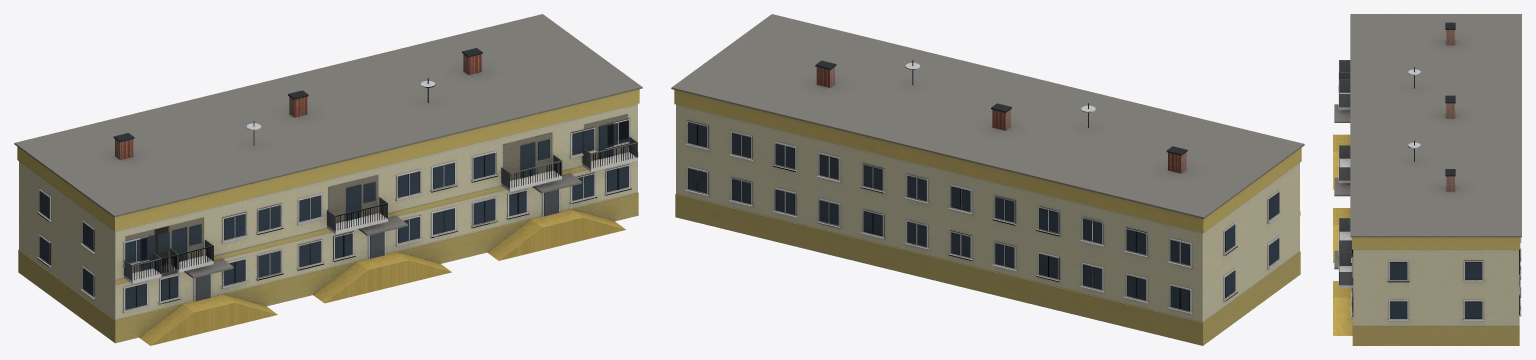
The model's file is blok.glb.
The picture shows the model from 3 angles, left to right: view 1: azimuth 30°, elevation 25°; view 2: azimuth 150°, elevation 25°; view 3: azimuth 270°, elevation 25°; orthographic projection. The views are drawn at different scales.
Parts seen in each view (by area): view 1: blok; view 2: blok; view 3: blok.
Part boxes in pixels (bbox=[...]): blok: bbox=[14, 14, 642, 345]; blok: bbox=[671, 14, 1304, 345]; blok: bbox=[1333, 14, 1521, 345].
Bounding box in the file's own units: 36.4 × 10.1 × 13.1.
Materials: 1 (1 with a texture image).
